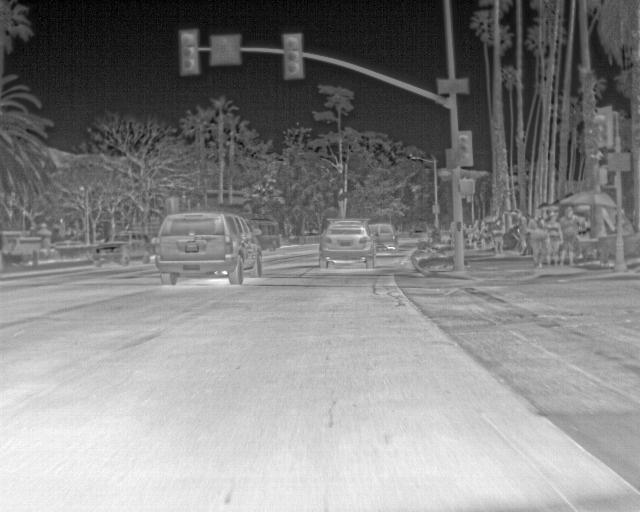bicycle: (150, 209, 266, 288), (316, 217, 372, 270), (92, 229, 152, 268), (366, 221, 398, 255)
empty: (557, 208, 591, 270), (531, 206, 548, 269), (544, 210, 560, 269), (492, 218, 507, 254)
